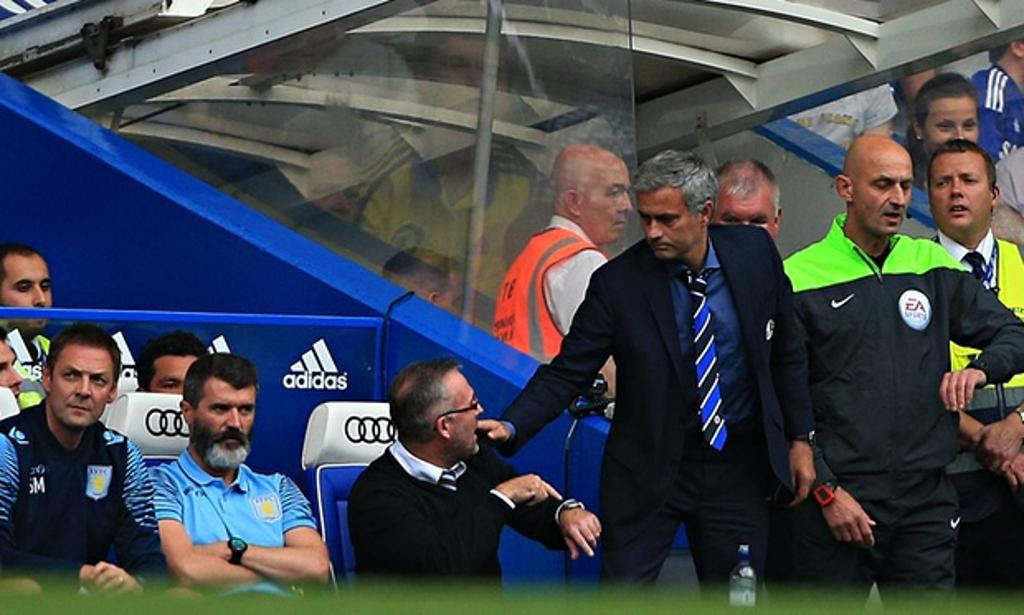face: (194, 385, 254, 468), (51, 344, 110, 425), (853, 153, 911, 235), (930, 153, 990, 231), (639, 188, 699, 260), (715, 187, 774, 252), (585, 159, 632, 240), (152, 356, 205, 423), (3, 256, 51, 325), (927, 97, 978, 160), (448, 370, 483, 453), (427, 262, 462, 341), (1, 341, 21, 410)
